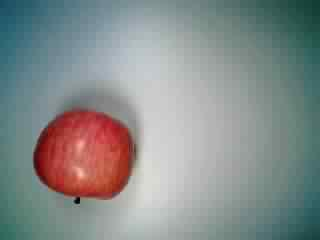apple: (34, 107, 140, 211)
